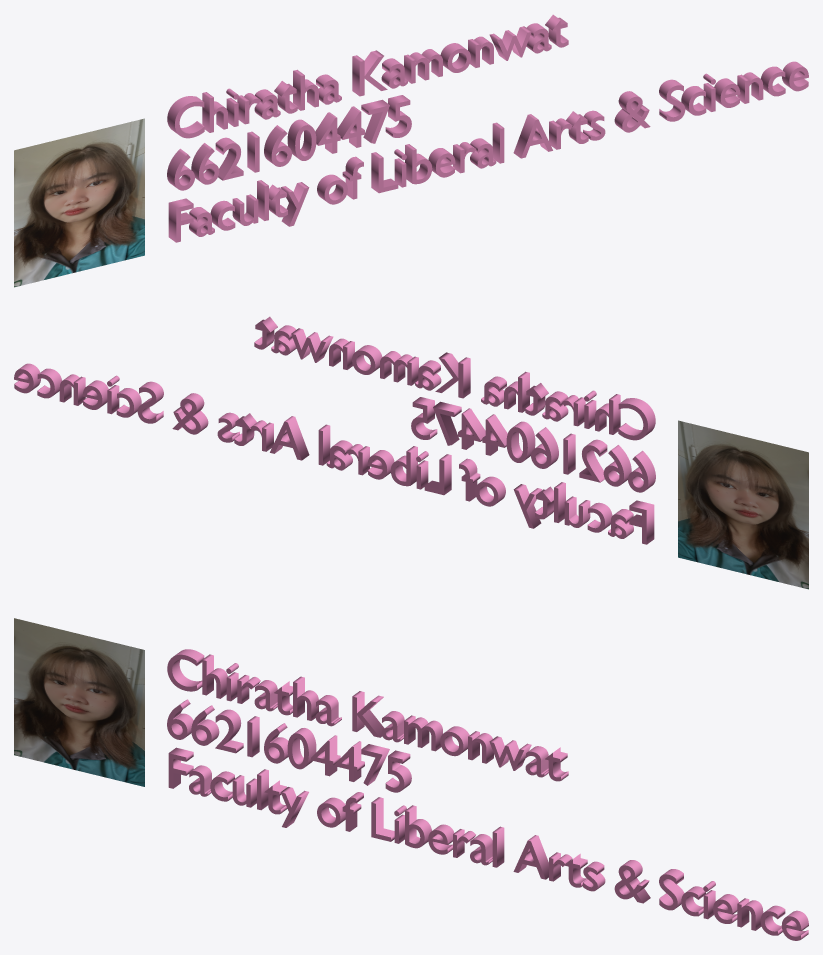
The model's file is name_All.glb.
3 renders of one model, top to bottom at view 1: azimuth 30°, elevation 25°; view 2: azimuth 150°, elevation 25°; view 3: azimuth 330°, elevation 25°, orthographic.
Visible parts, largest first — view 1: Text, Plane; view 2: Text, Plane; view 3: Text, Plane.
Boxes of the visible parts, left/top/right/bottom form: Text: left=167, top=14, right=808, bottom=242; Plane: left=14, top=118, right=144, bottom=287; Text: left=14, top=316, right=655, bottom=544; Plane: left=678, top=420, right=808, bottom=589; Text: left=167, top=649, right=808, bottom=940; Plane: left=14, top=618, right=144, bottom=786.
Size of the model in its own units: 6.04 by 1.08 by 0.1.
Materials: 2 (1 with a texture image).
